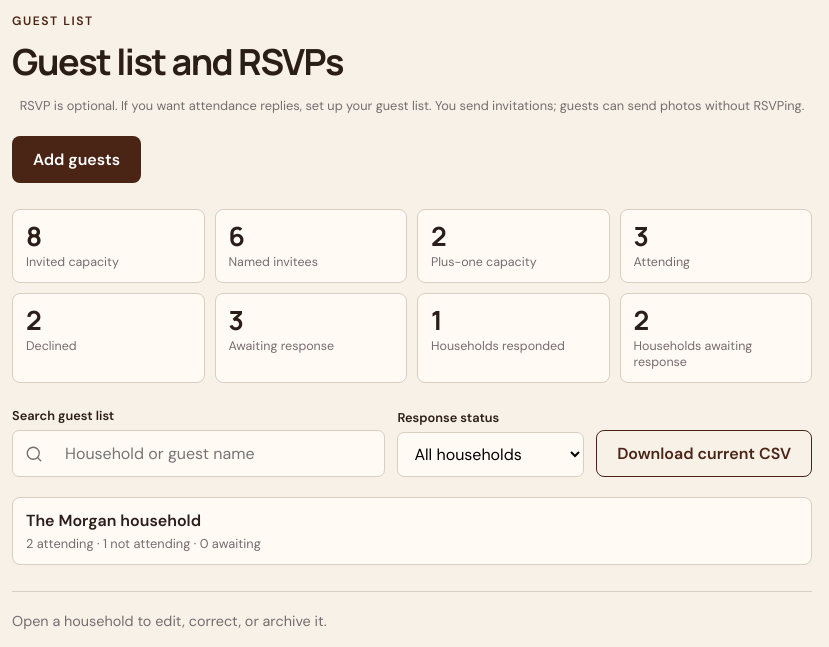
Scenario: manager RSVP panel › keeps the dashboard mounted while a later roster filter request is pending
The width and height of the screenshot is (829, 647).
Expected: the element "Invited capacity" is shown, [12,209,204,283]
In the search field labelled "Search guest list": (212, 454) [51,431,372,476], type "rivera"
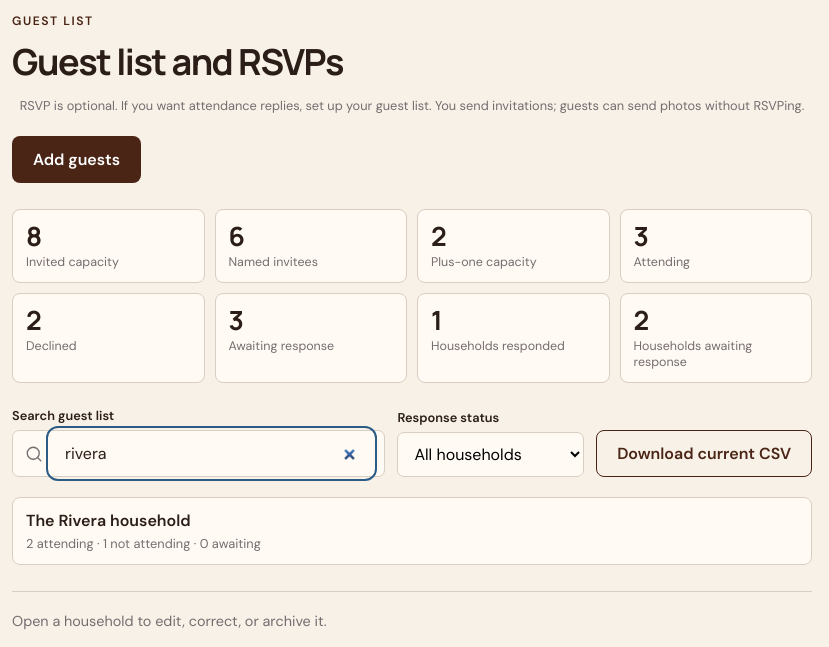
Expected: the element "Invited capacity" is shown, [12,209,204,283]
Expected: the button "The Rivera household" is shown, [12,497,812,565]
